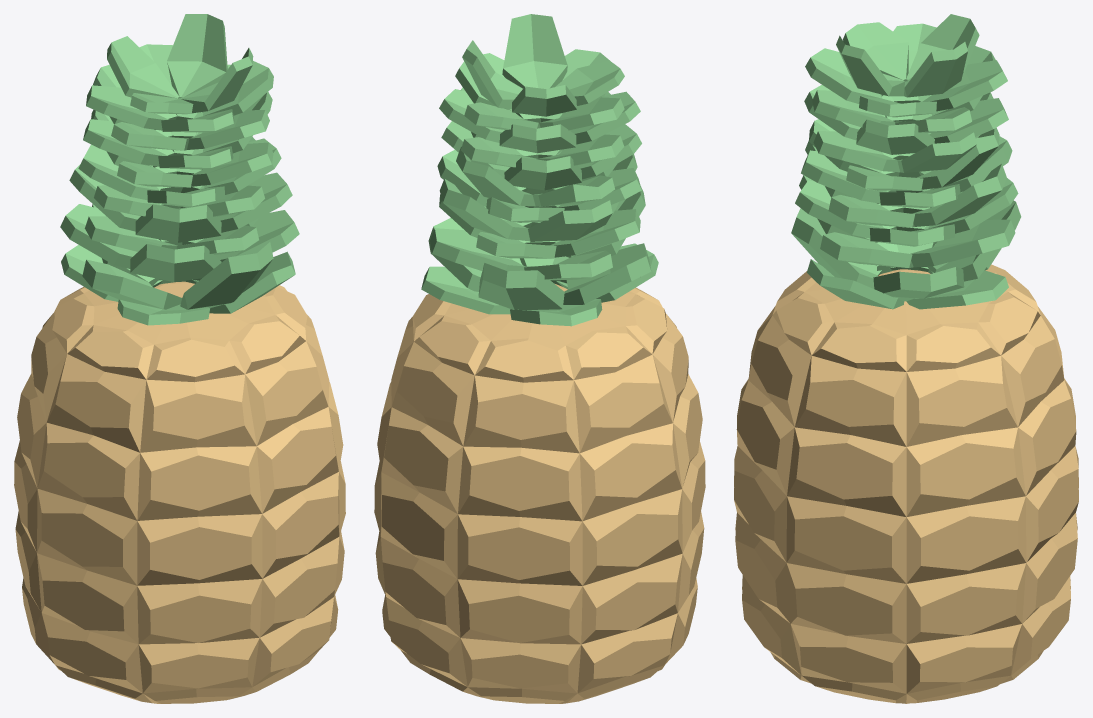
Rendered from pineapple.glb.
3 renders of one model, left to right at view 1: azimuth 30°, elevation 25°; view 2: azimuth 150°, elevation 25°; view 3: azimuth 270°, elevation 25°, orthographic. The views are drawn at different scales.
Visible parts, largest first — view 1: node-0; view 2: node-0; view 3: node-0.
Part boxes in pixels (bbox=[...]): node-0: bbox=[14, 14, 345, 703]; node-0: bbox=[374, 14, 705, 703]; node-0: bbox=[734, 14, 1078, 703].
Bounding box in the file's own units: 5.94 × 12.21 × 5.94.
